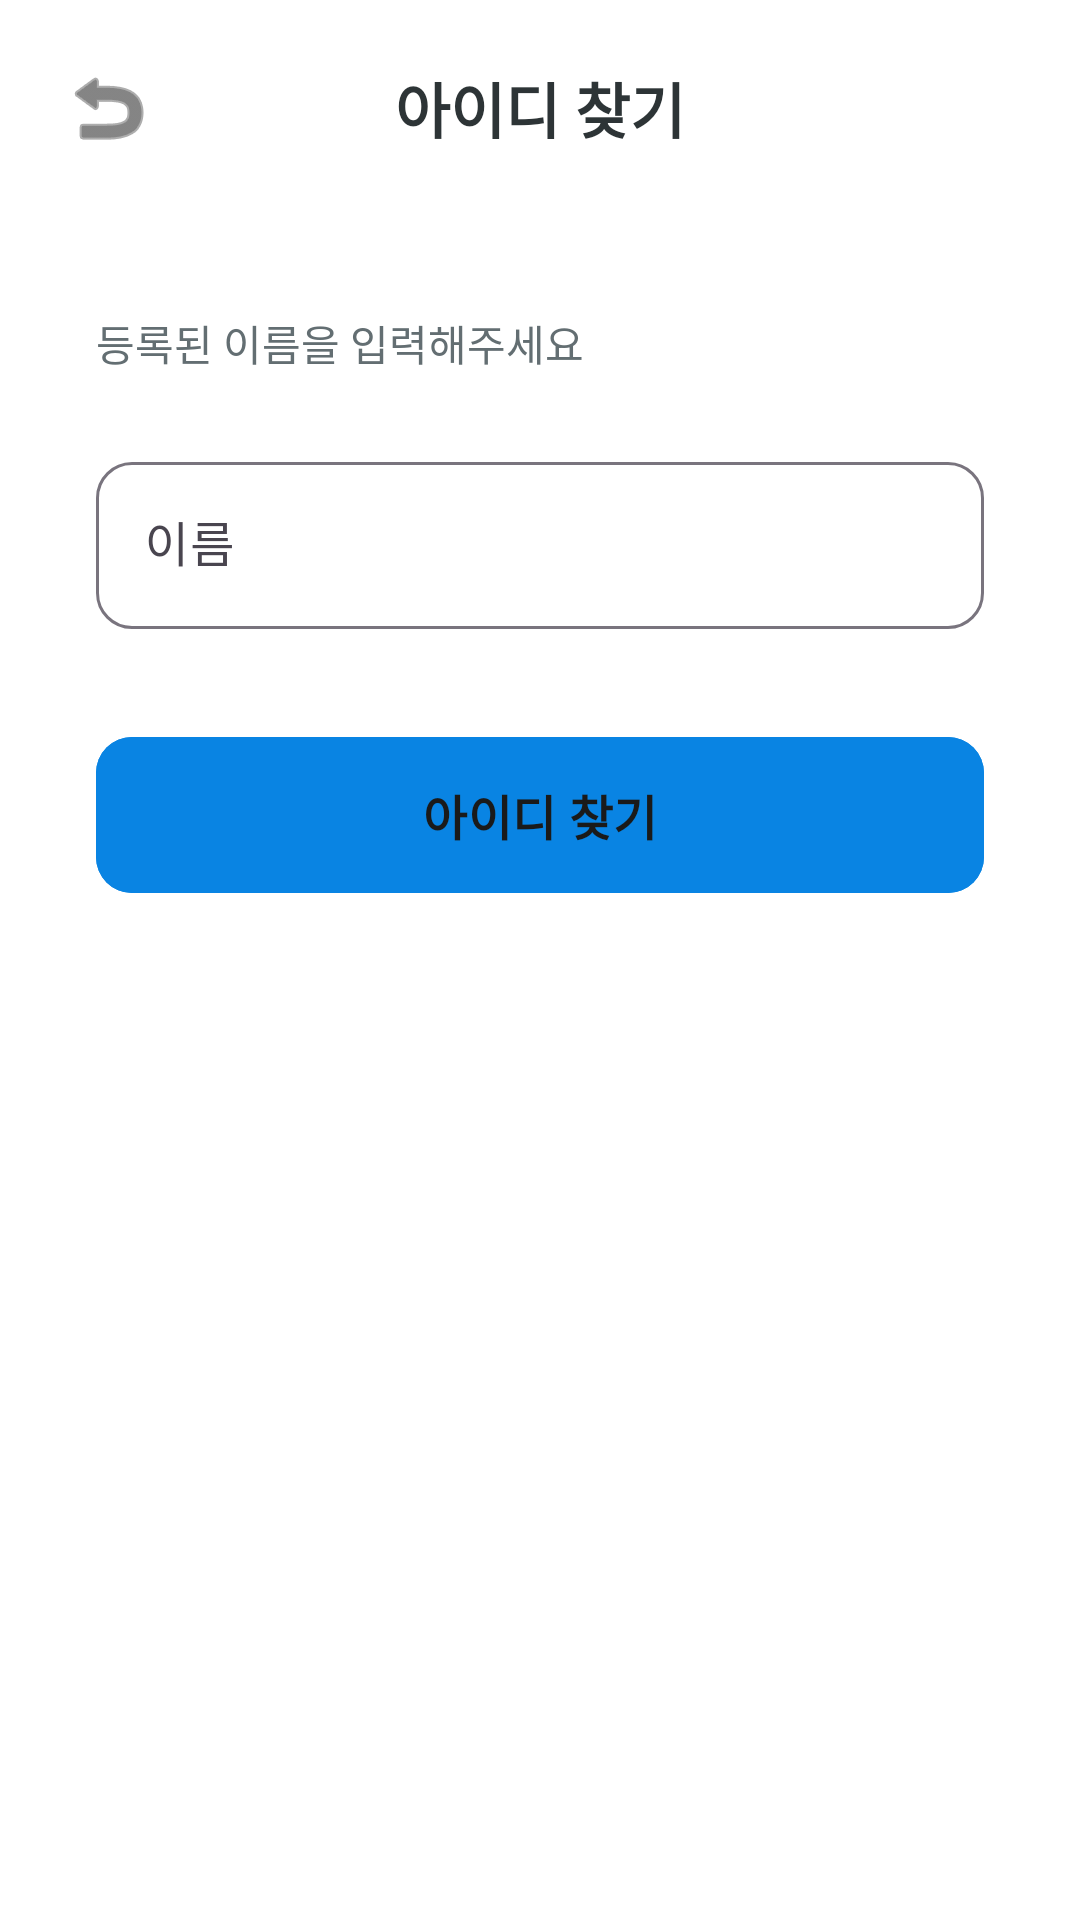

Where to tap for icons on this 1080 x 1920 app screen, as point (x, y):
뒤로가기: point (109, 108)
